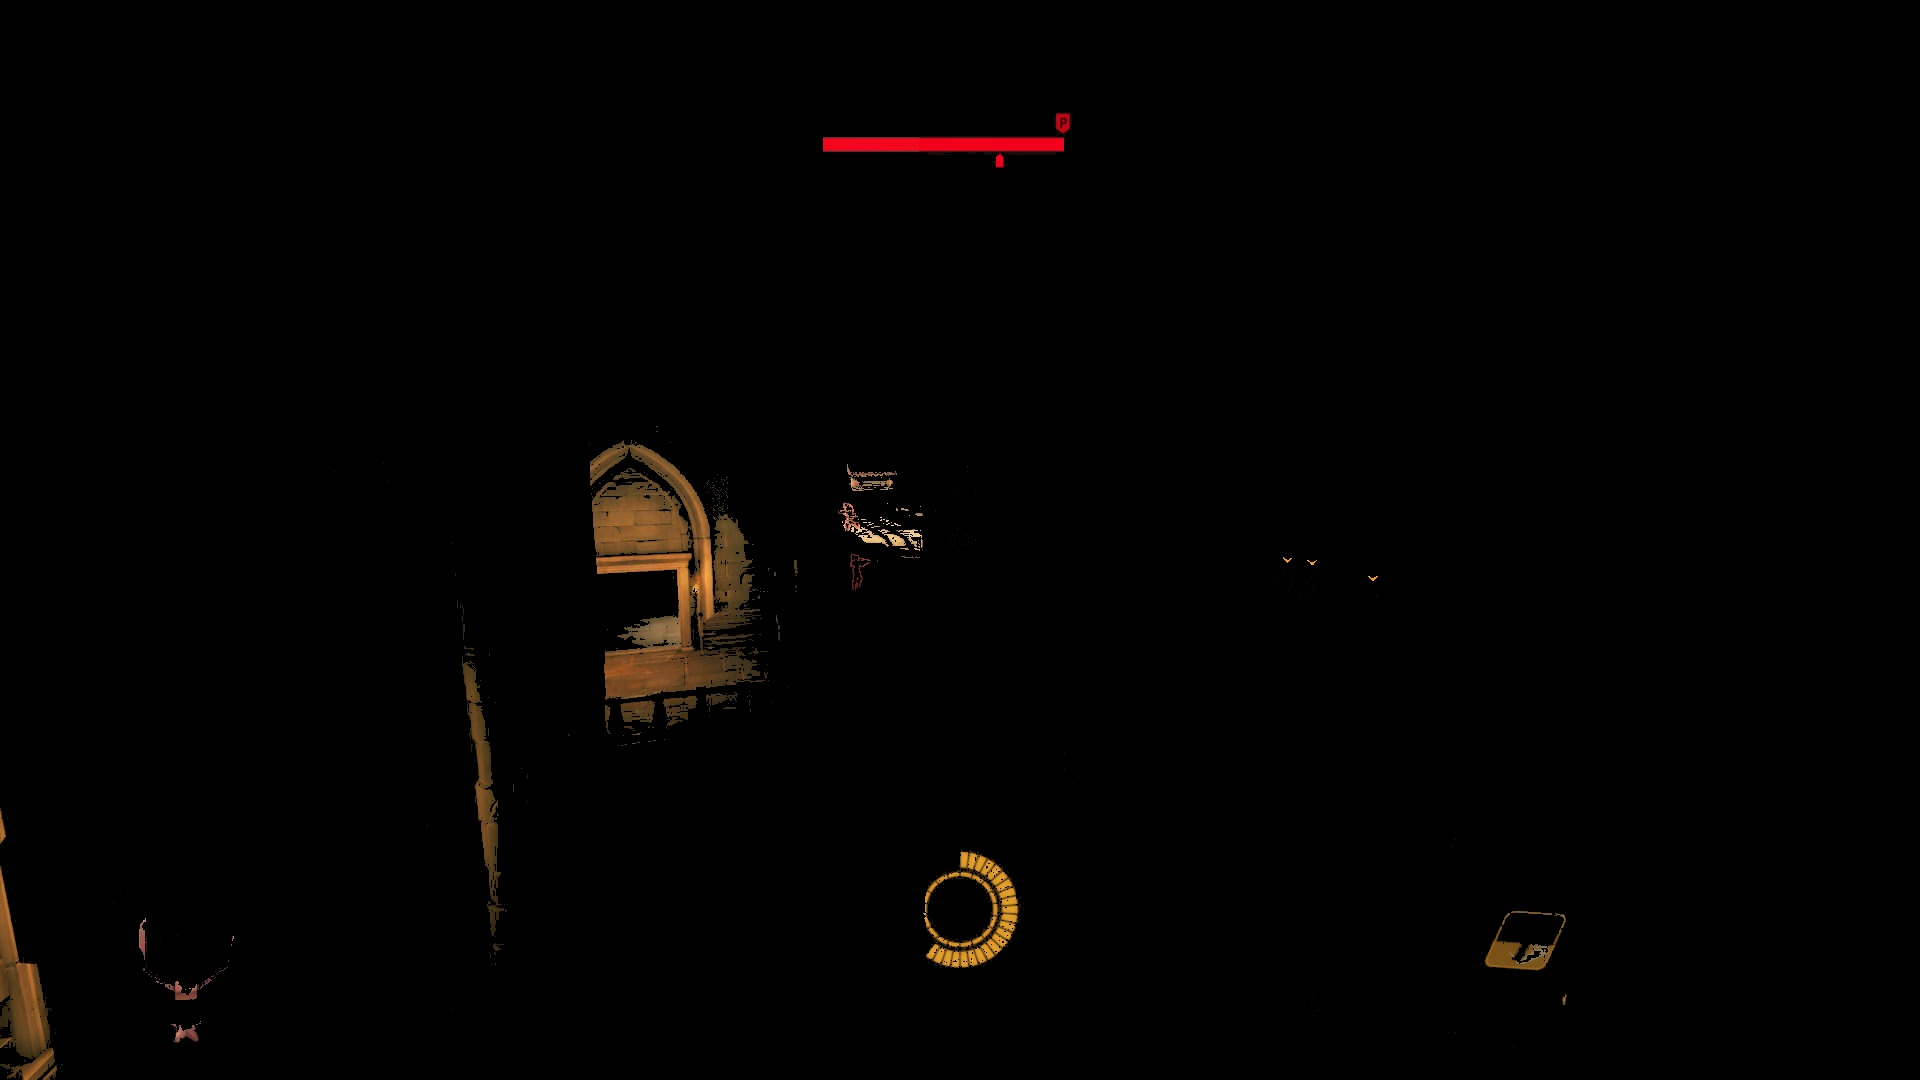widowmaker: (848, 551, 869, 595)
